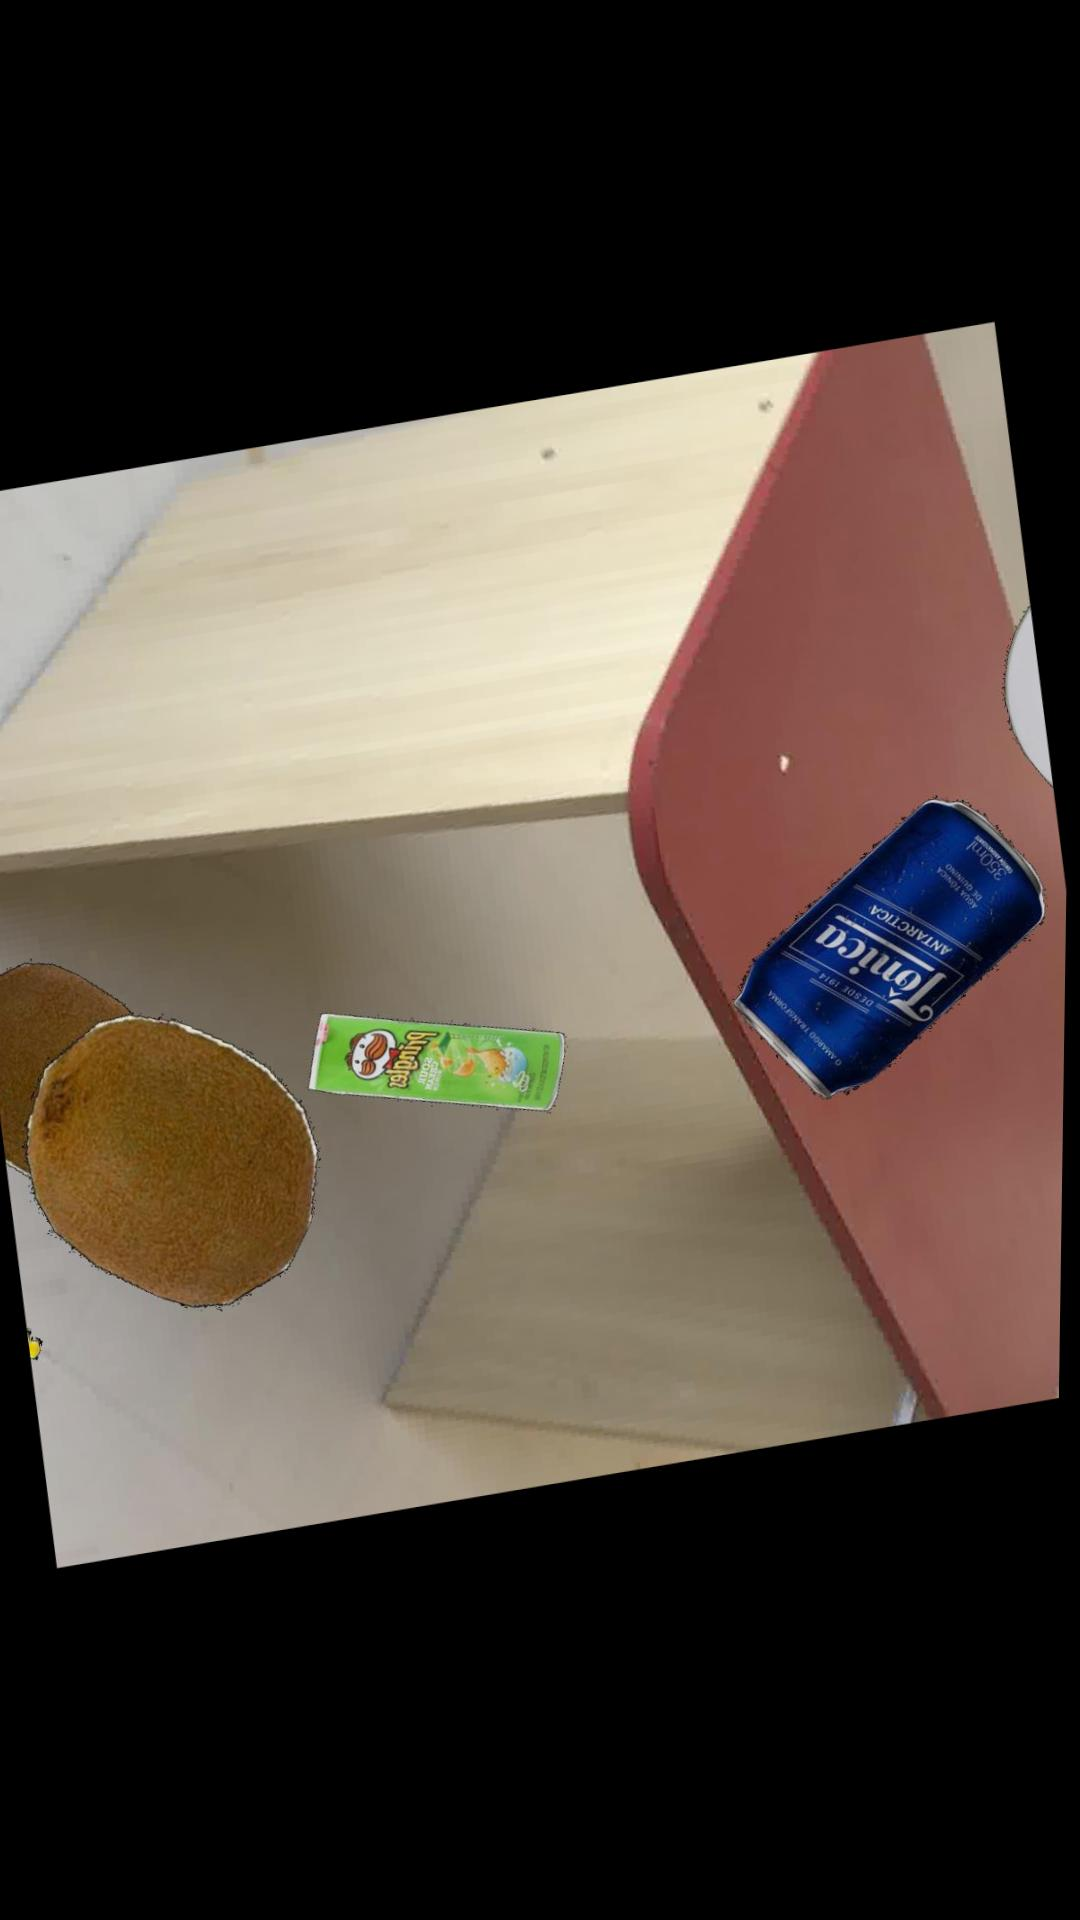kiwi: (30, 1014, 324, 1309), (0, 963, 138, 1179)
pringles: (313, 1015, 571, 1114)
tonic: (738, 800, 1051, 1105)
